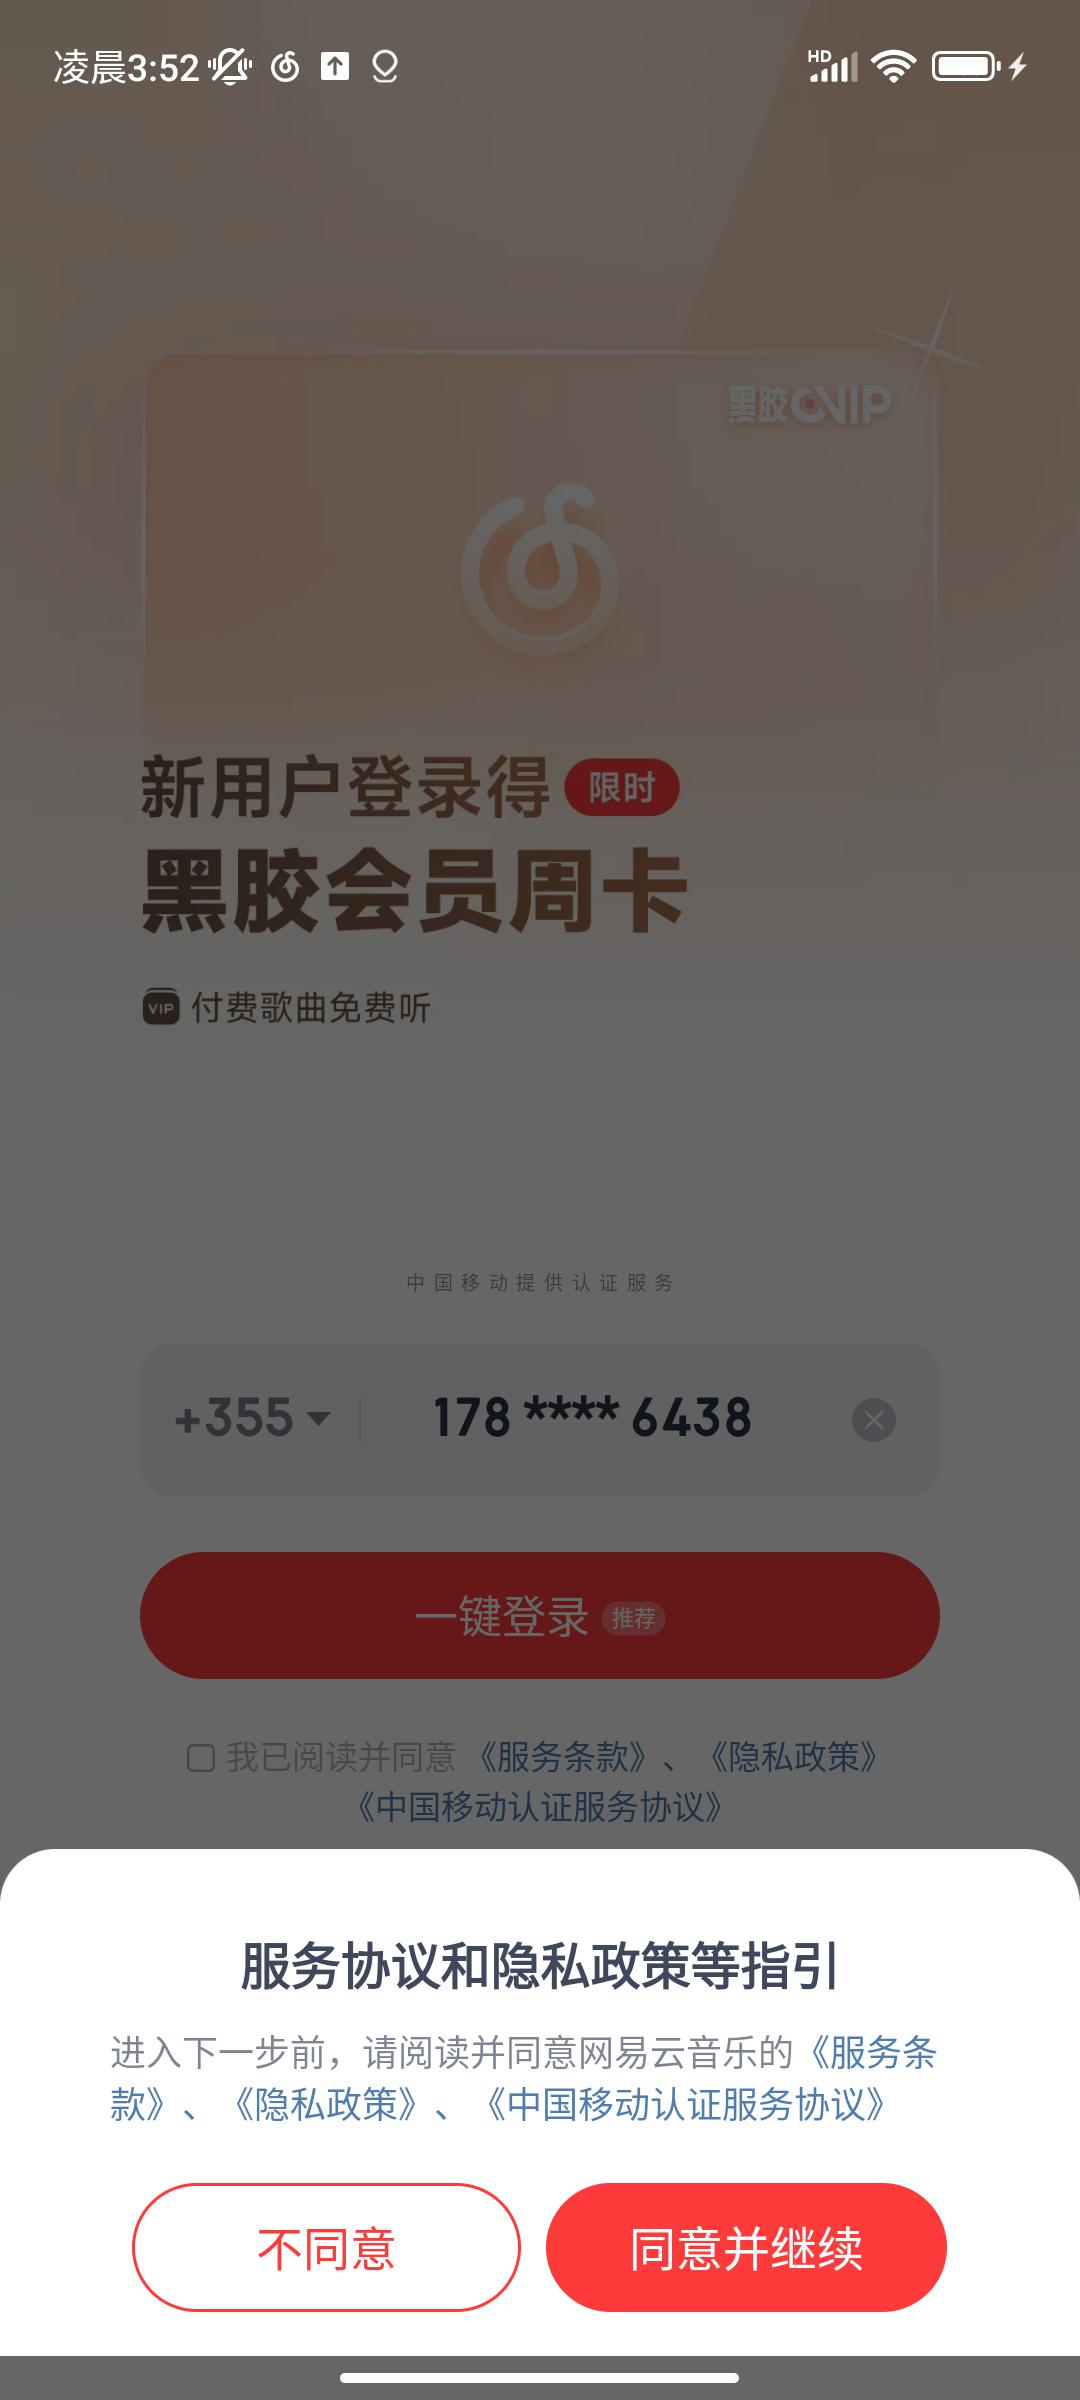ui_group: (11, 1854, 1065, 2356)
